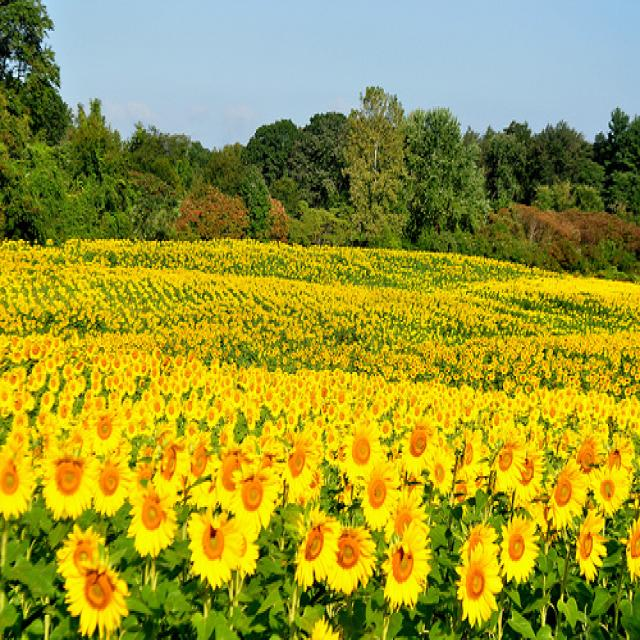sunflower: (186, 519, 237, 588), (462, 555, 506, 633), (331, 527, 376, 603), (42, 454, 97, 514), (294, 512, 338, 586), (382, 540, 428, 608), (55, 526, 105, 587), (79, 566, 127, 628), (498, 520, 540, 590), (127, 499, 176, 552), (341, 422, 384, 482), (577, 510, 611, 582), (151, 439, 189, 498), (544, 470, 584, 526), (360, 468, 396, 527), (216, 452, 253, 509), (92, 456, 130, 511), (236, 472, 273, 527), (3, 459, 34, 520), (398, 432, 434, 473), (286, 445, 316, 494), (496, 438, 522, 494), (515, 443, 541, 499), (91, 412, 122, 454), (574, 444, 602, 481), (457, 440, 481, 474), (8, 427, 29, 454), (28, 341, 42, 362), (0, 386, 12, 408), (206, 406, 218, 426), (219, 429, 232, 446), (42, 391, 54, 409), (287, 412, 300, 428), (232, 392, 244, 408), (124, 422, 138, 435), (166, 404, 178, 419), (275, 418, 285, 432), (249, 380, 256, 393)
